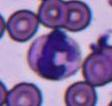N: (27, 31, 82, 81)
